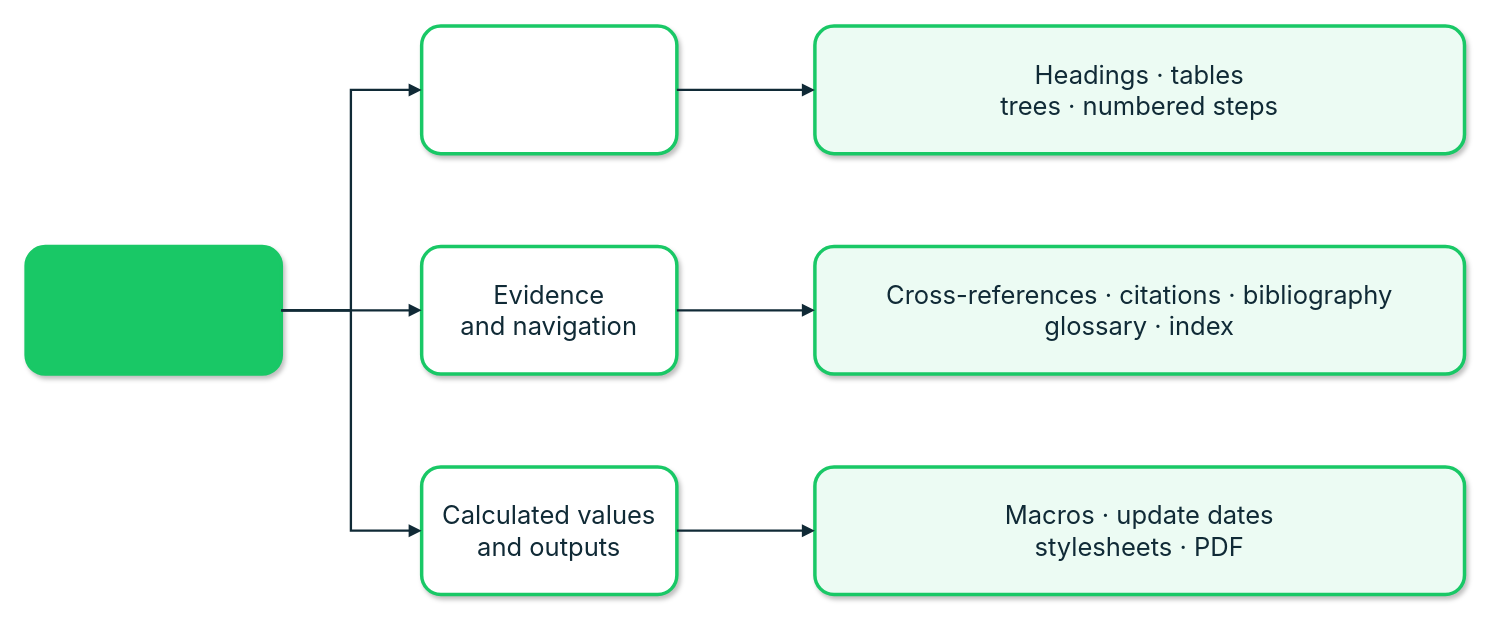
This 1493x624 diagram has some shape labels left out. Here are the shapes that lost their labels. From the top down, the centre of each, then its label:
point 550,91: Structure and layout
point 154,311: What does the document need?
